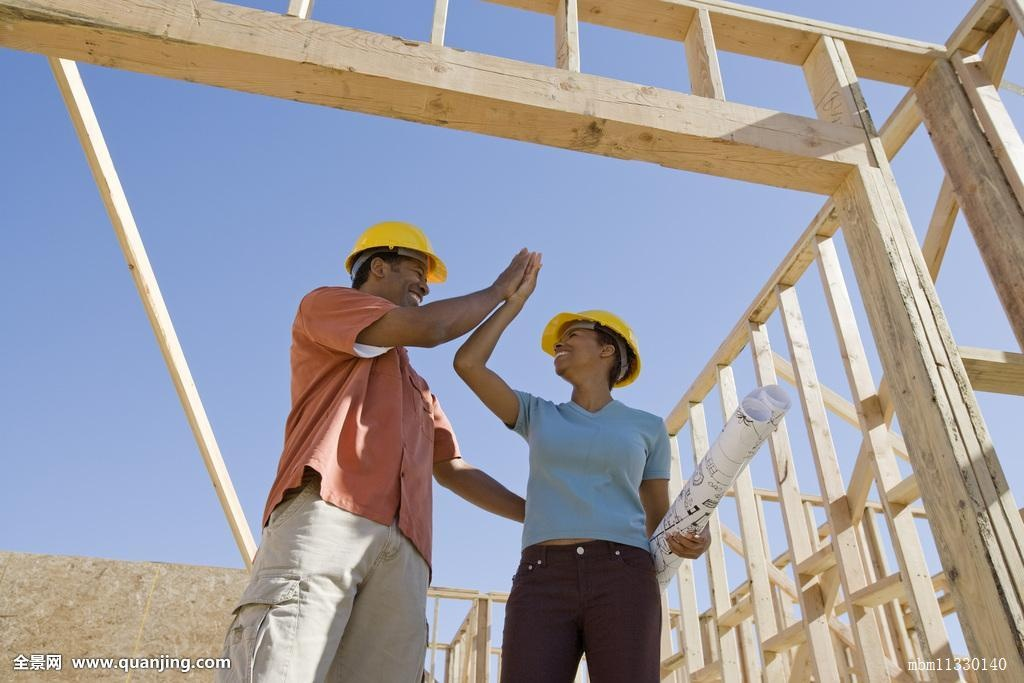yellow: (538, 306, 639, 398), (347, 220, 438, 309)
